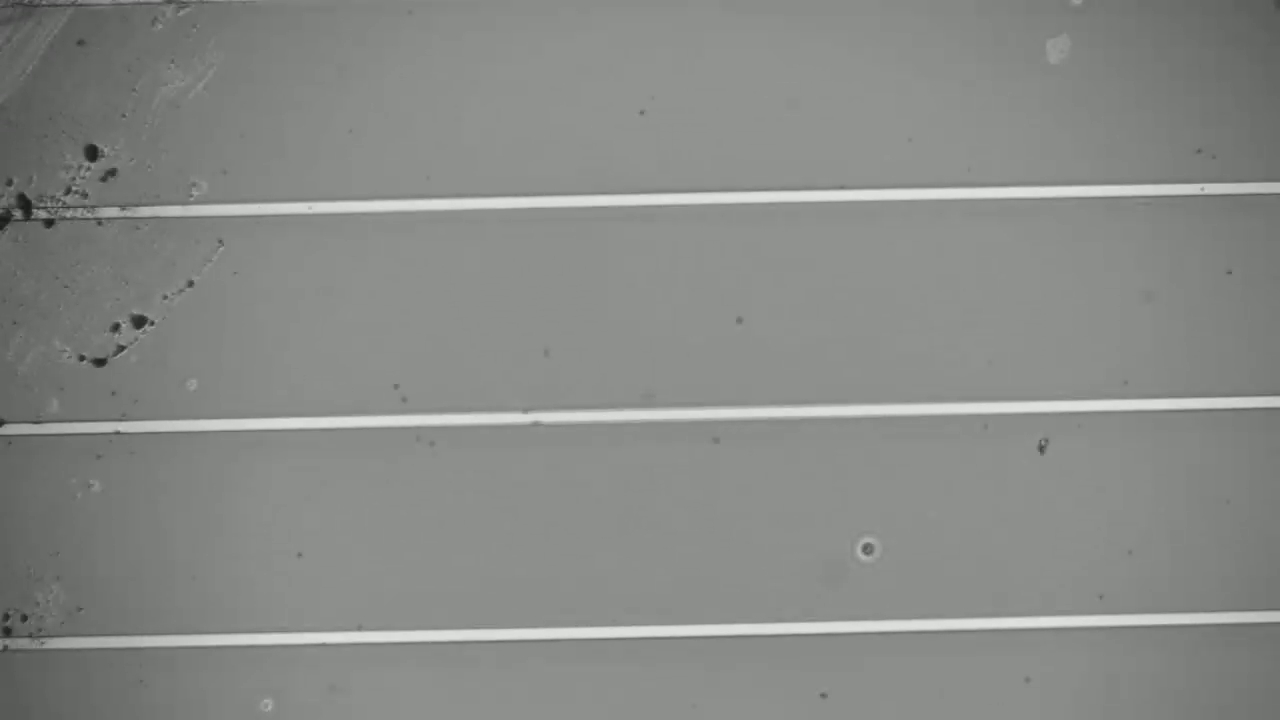stains_enbedded: (14, 189, 48, 232), (1, 197, 23, 244)
